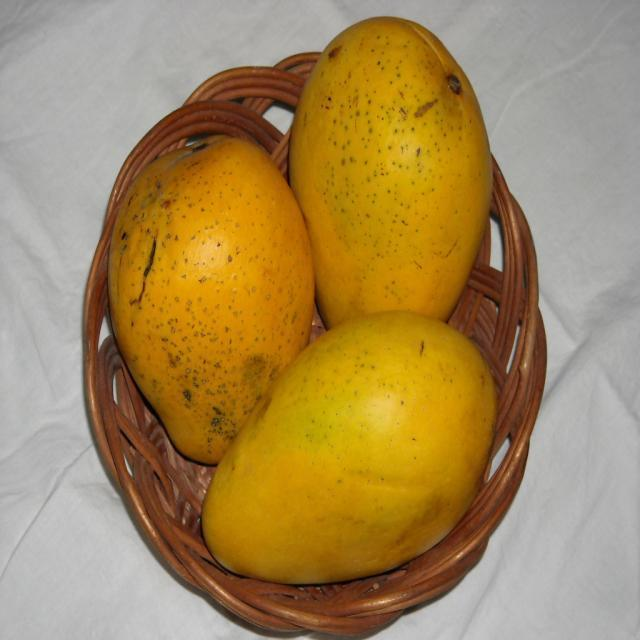Mango: (203, 311, 498, 584), (286, 14, 497, 330), (109, 134, 311, 463)
